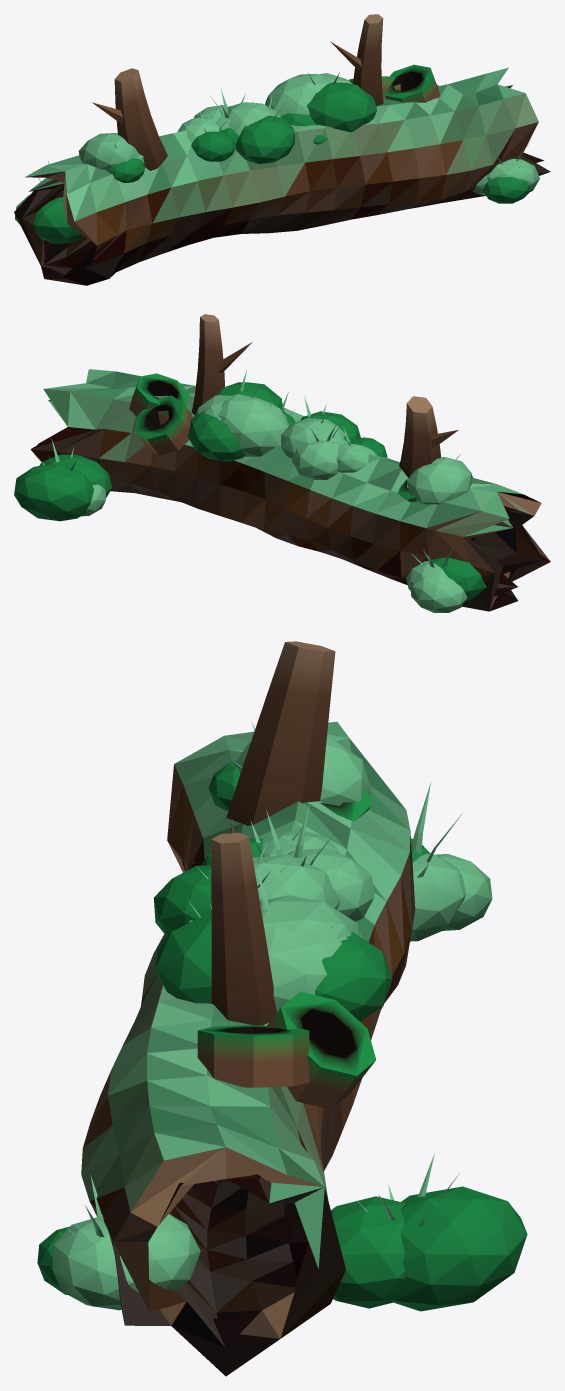
File: pohon_tumbang_hollow_rainforest_517077 (2).glb
3 renders of one model, top to bottom at view 1: azimuth 30°, elevation 25°; view 2: azimuth 150°, elevation 25°; view 3: azimuth 270°, elevation 25°, orthographic. The views are drawn at different scales.
Parts seen in each view (by area): view 1: Batang_Pohon_Berlubang; view 2: Batang_Pohon_Berlubang; view 3: Batang_Pohon_Berlubang.
Boxes of the visible parts, left/top/right/bottom form: Batang_Pohon_Berlubang: left=14, top=14, right=550, bottom=285; Batang_Pohon_Berlubang: left=14, top=314, right=550, bottom=612; Batang_Pohon_Berlubang: left=37, top=641, right=527, bottom=1376.
Bounding box in the file's own units: 7.56 × 3.05 × 3.38.
